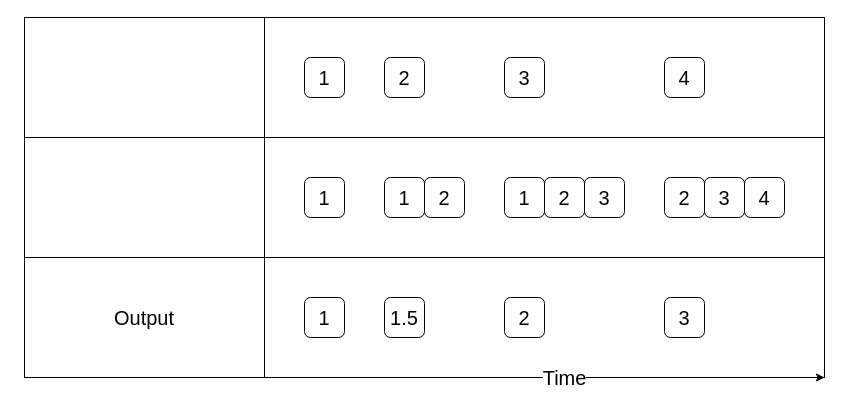
Some shapes in this 850 by 407 pixel diagram are drawn without their labels. Each missing label, with the centre of its shape:
"Data input" goes at point 144,77.
"Window (Size = 3)" goes at point 144,197.
